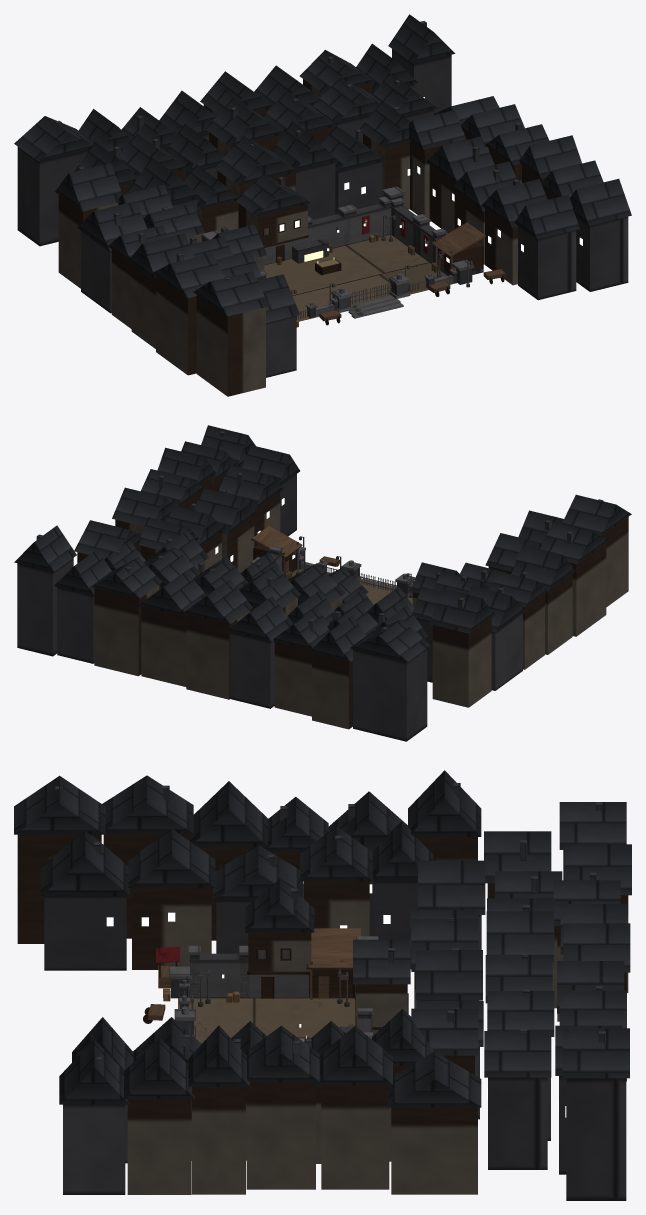
The model's file is town_safehouse.glb.
3 views of the same model, one above another, from view 1: azimuth 30°, elevation 25°; view 2: azimuth 150°, elevation 25°; view 3: azimuth 270°, elevation 25° (orthographic). The views are drawn at different scales.
Visible parts, largest first — view 1: _MeshInstance3D_3, _MeshInstance3D_263, _MeshInstance3D_94, _MeshInstance3D_319, _MeshInstance3D_337, _MeshInstance3D_258, _MeshInstance3D_49, _MeshInstance3D_242, _MeshInstance3D_95, _MeshInstance3D_264, _MeshInstance3D_338, _MeshInstance3D_241 (+61 smaller); view 2: _MeshInstance3D_94, _MeshInstance3D_241, _MeshInstance3D_112, _MeshInstance3D_118, _MeshInstance3D_107, _MeshInstance3D_109, _MeshInstance3D_104, _MeshInstance3D_98, _MeshInstance3D_115, _MeshInstance3D_100, _MeshInstance3D_258, _MeshInstance3D_95 (+53 smaller); view 3: _MeshInstance3D_322, _MeshInstance3D_328, _MeshInstance3D_118, _MeshInstance3D_325, _MeshInstance3D_335, _MeshInstance3D_237, _MeshInstance3D_332, _MeshInstance3D_337, _MeshInstance3D_90, _MeshInstance3D_233, _MeshInstance3D_3, _MeshInstance3D_238 (+58 smaller).
Boxes of the visible parts, x1,y1,x2,y2 form: _MeshInstance3D_3: [264, 235, 456, 321]; _MeshInstance3D_263: [196, 295, 265, 396]; _MeshInstance3D_94: [17, 147, 88, 246]; _MeshInstance3D_319: [518, 226, 576, 300]; _MeshInstance3D_337: [576, 216, 628, 291]; _MeshInstance3D_258: [156, 276, 196, 375]; _MeshInstance3D_49: [214, 136, 298, 185]; _MeshInstance3D_242: [55, 163, 122, 211]; _MeshInstance3D_95: [14, 116, 94, 161]; _MeshInstance3D_264: [193, 271, 269, 316]; _MeshInstance3D_338: [570, 178, 631, 225]; _MeshInstance3D_241: [58, 195, 118, 288]; _MeshInstance3D_94: [353, 648, 427, 741]; _MeshInstance3D_241: [432, 618, 491, 707]; _MeshInstance3D_112: [94, 585, 159, 676]; _MeshInstance3D_118: [17, 558, 73, 656]; _MeshInstance3D_107: [186, 610, 249, 699]; _MeshInstance3D_109: [141, 606, 186, 686]; _MeshInstance3D_104: [230, 632, 274, 708]; _MeshInstance3D_98: [312, 653, 352, 729]; _MeshInstance3D_115: [57, 587, 94, 663]; _MeshInstance3D_100: [274, 641, 311, 716]; _MeshInstance3D_258: [569, 543, 606, 636]; _MeshInstance3D_95: [350, 619, 430, 662]; _MeshInstance3D_322: [391, 1107, 477, 1194]; _MeshInstance3D_328: [246, 1082, 315, 1189]; _MeshInstance3D_118: [566, 1078, 626, 1200]; _MeshInstance3D_325: [321, 1085, 389, 1189]; _MeshInstance3D_335: [127, 1099, 191, 1194]; _MeshInstance3D_237: [44, 896, 126, 970]; _MeshInstance3D_332: [192, 1087, 245, 1194]; _MeshInstance3D_337: [63, 1104, 125, 1194]; _MeshInstance3D_90: [488, 1077, 547, 1169]; _MeshInstance3D_233: [132, 888, 211, 969]; _MeshInstance3D_3: [178, 998, 355, 1043]; _MeshInstance3D_238: [40, 831, 129, 895].
Size of what is drawn, in the model's own units: 57.3 by 15.32 by 51.52.
Materials: 15 (10 with a texture image).
